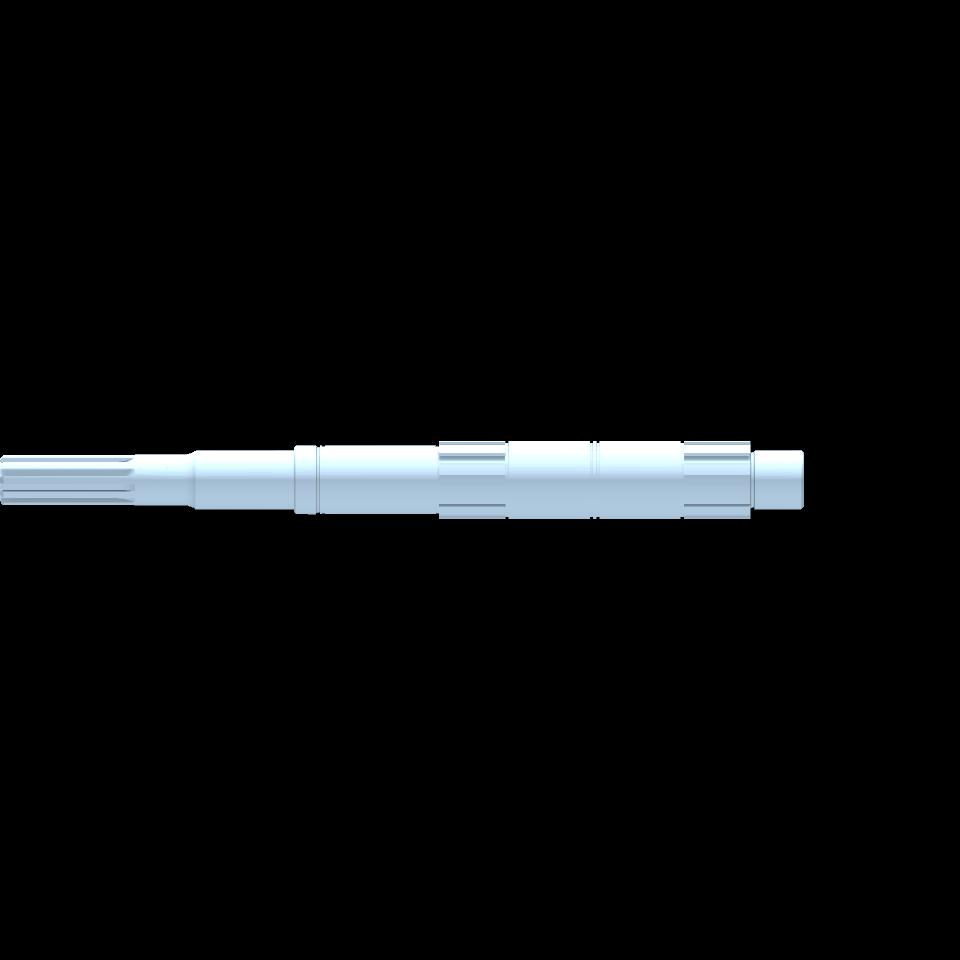Straight: (2, 454, 129, 506), (684, 442, 750, 520), (438, 441, 505, 516)
